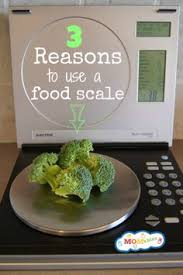Industrial Scale: (7, 4, 183, 271)
